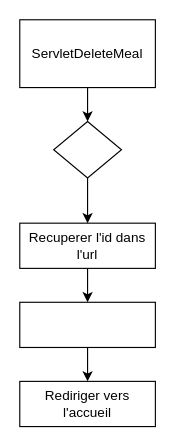
This 175x446 diagram has some shape labels left out. Each missing label, with the centre of its shape:
"get ou post" goes at [87,149].
"Supprimer un Repas depuis l'Id" goes at [87,324].
